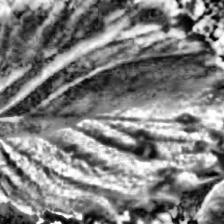Leaf Spot: (0, 0, 224, 222)
